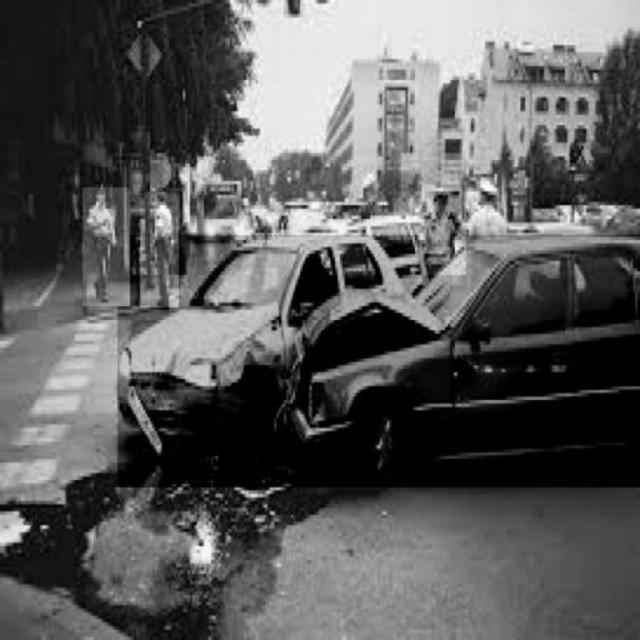accident: (118, 235, 640, 488)
person: (83, 188, 130, 306), (140, 193, 178, 307), (420, 187, 466, 275), (468, 185, 508, 233)
